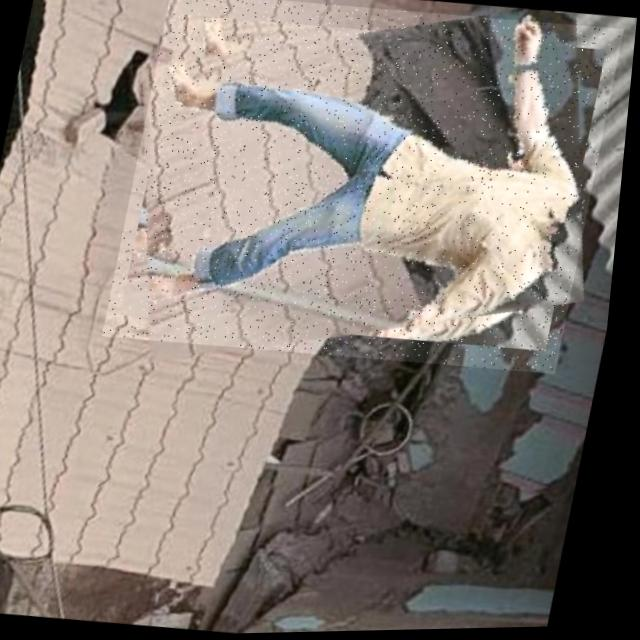Person in Rubble: (104, 0, 627, 384)
